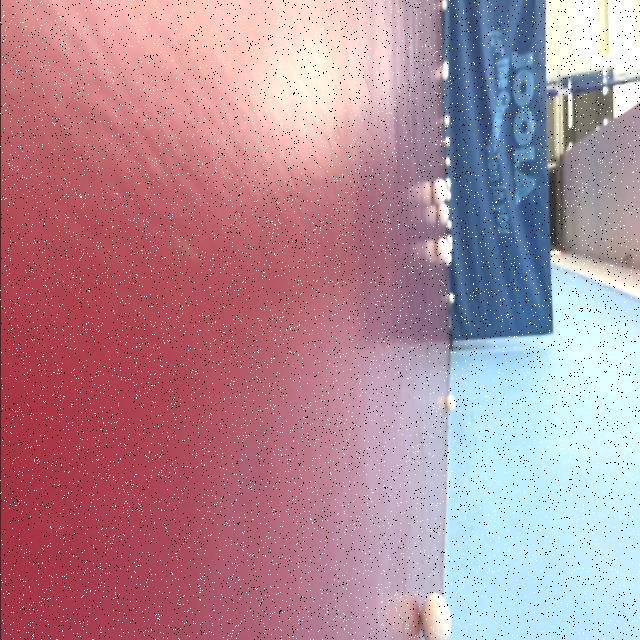ping-pong-ball: (412, 577, 457, 640), (424, 168, 451, 214), (432, 226, 452, 273), (434, 59, 454, 88), (436, 105, 456, 133), (436, 198, 454, 228), (444, 386, 458, 418), (444, 286, 458, 314), (436, 0, 452, 14), (439, 132, 452, 148), (444, 232, 454, 252), (444, 154, 453, 165)
